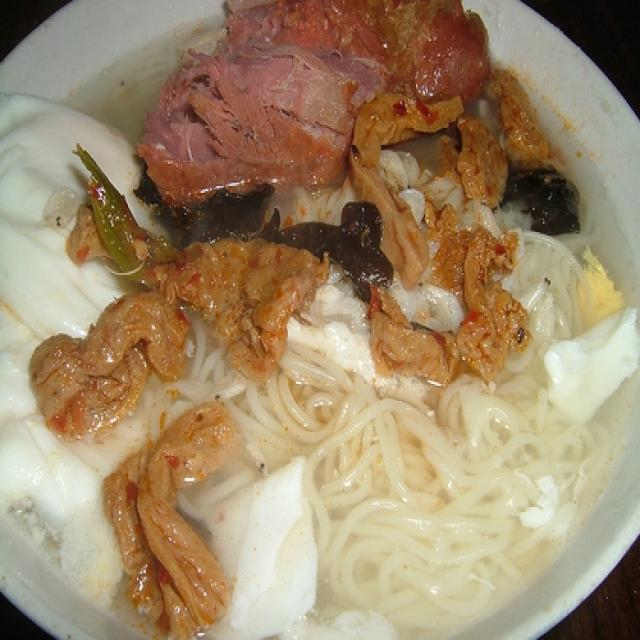面条主食: (19, 20, 617, 623)
